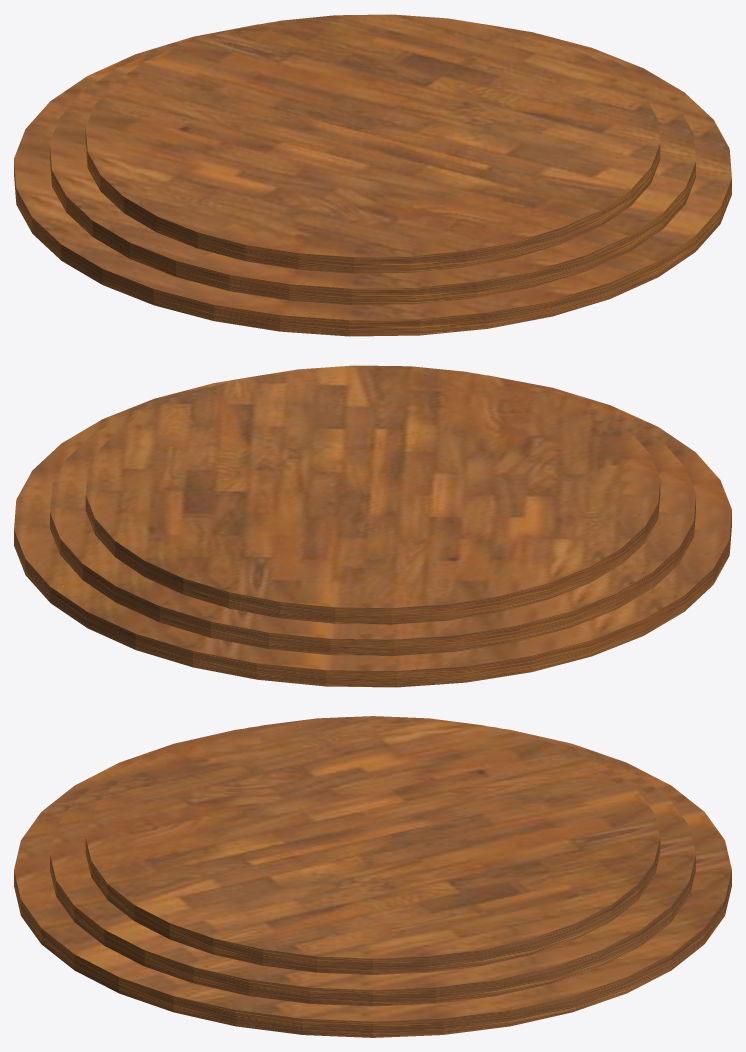
Rendered from stage1.glb.
3 renders of one model, top to bottom at view 1: azimuth 30°, elevation 25°; view 2: azimuth 150°, elevation 25°; view 3: azimuth 270°, elevation 25°, orthographic.
Visible parts, largest first — view 1: Cylinder.002, Cylinder, Cylinder.001; view 2: Cylinder.002, Cylinder, Cylinder.001; view 3: Cylinder.002, Cylinder, Cylinder.001.
Part boxes in pixels (<box>): Cylinder.002: <box>85,14,660,273</box>; Cylinder: <box>14,24,731,336</box>; Cylinder.001: <box>50,22,695,304</box>; Cylinder.002: <box>85,365,660,624</box>; Cylinder: <box>14,375,731,687</box>; Cylinder.001: <box>50,373,695,655</box>; Cylinder.002: <box>85,716,660,974</box>; Cylinder: <box>14,728,731,1037</box>; Cylinder.001: <box>50,726,695,1006</box>.
Size of the model in its own units: 4 by 0.3 by 4.
Materials: 2 (2 with a texture image).
